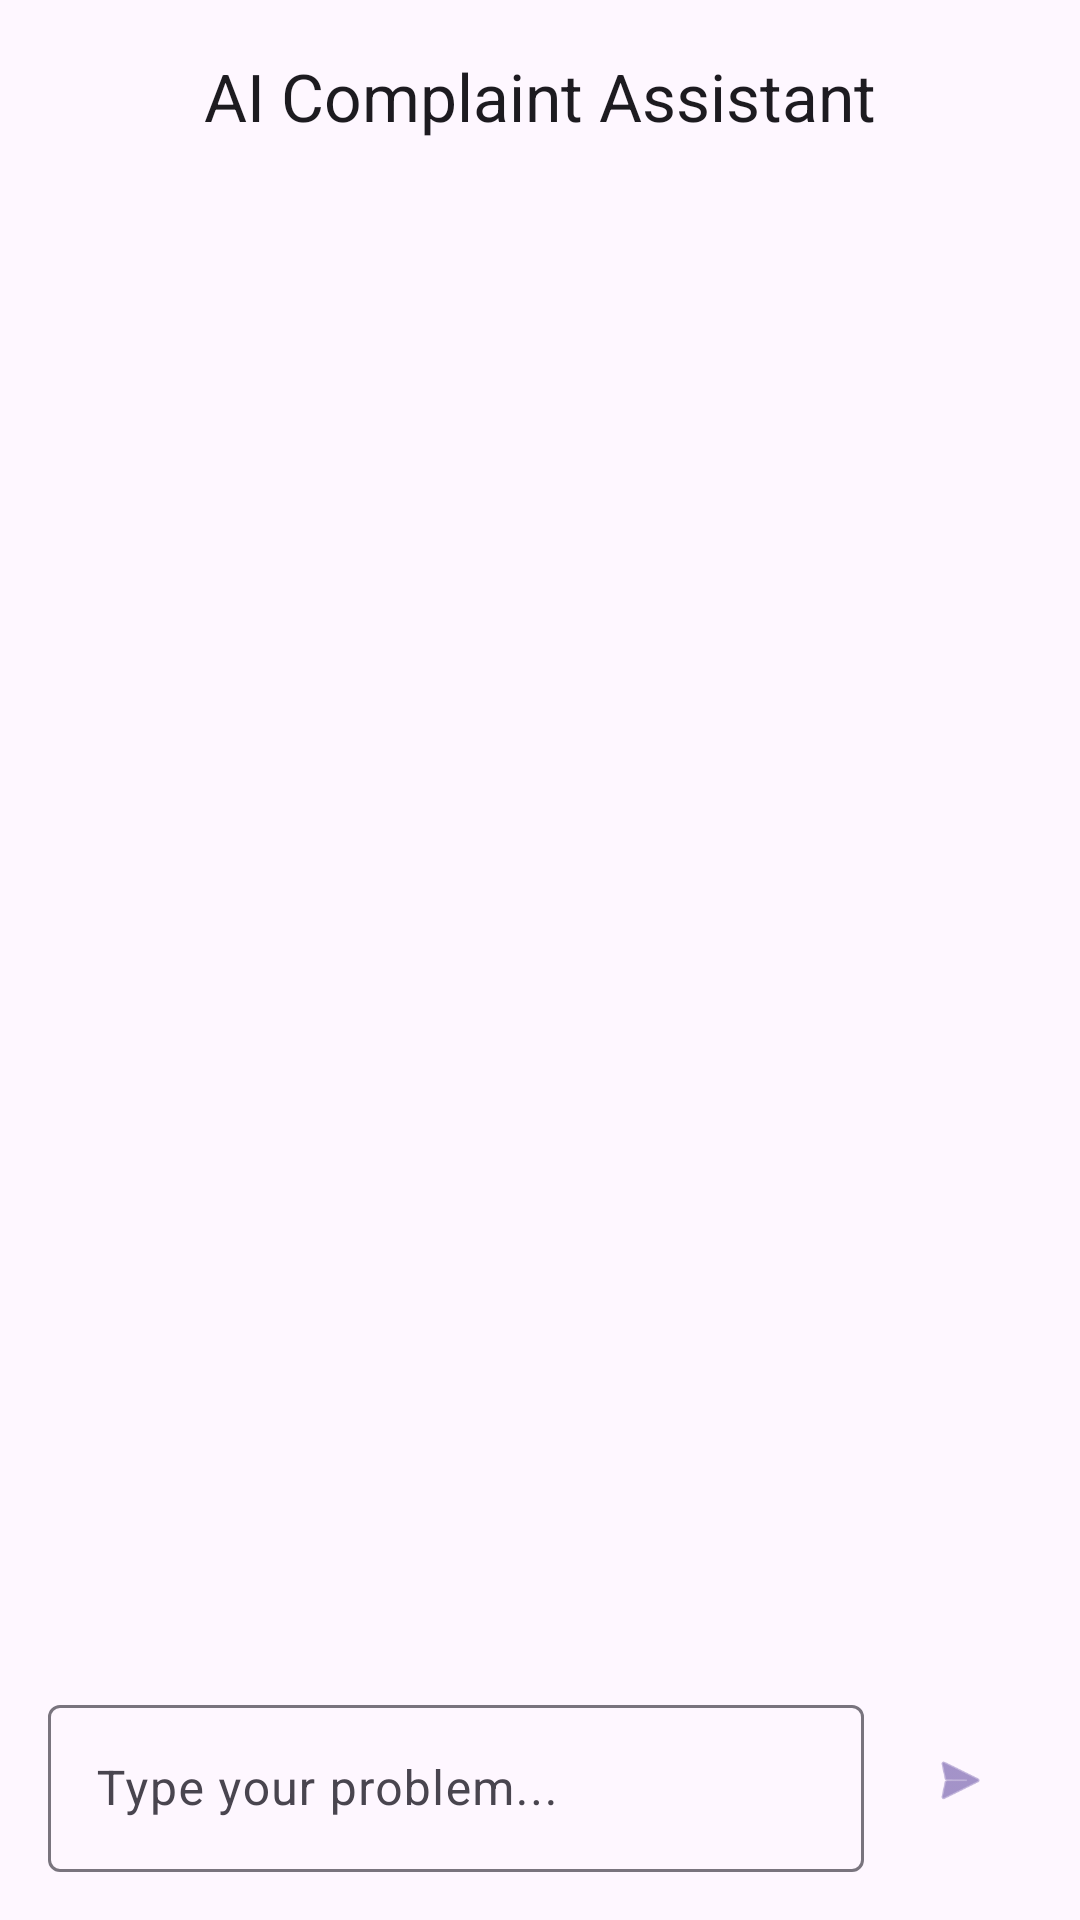

Icon bounding boxes for this 1080x1920 phone screenshot, format (x1, y1, x2, y2):
send: (941, 1761, 980, 1799)
